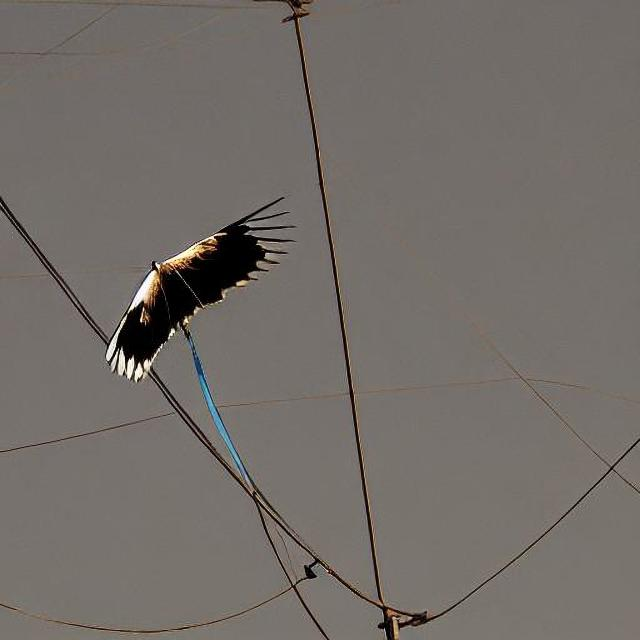floating object: (100, 196, 292, 375)
